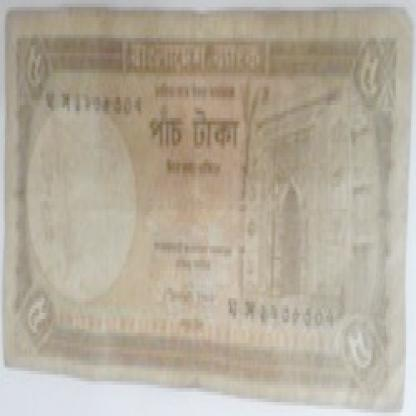Five Taka: (148, 100, 243, 163), (19, 35, 48, 104), (358, 42, 386, 111), (345, 322, 376, 382), (22, 291, 50, 340)
